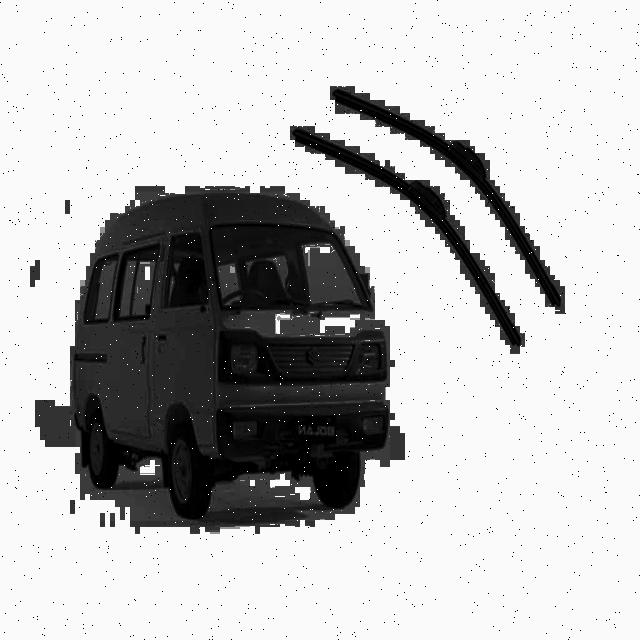LCV: (75, 192, 390, 522)
